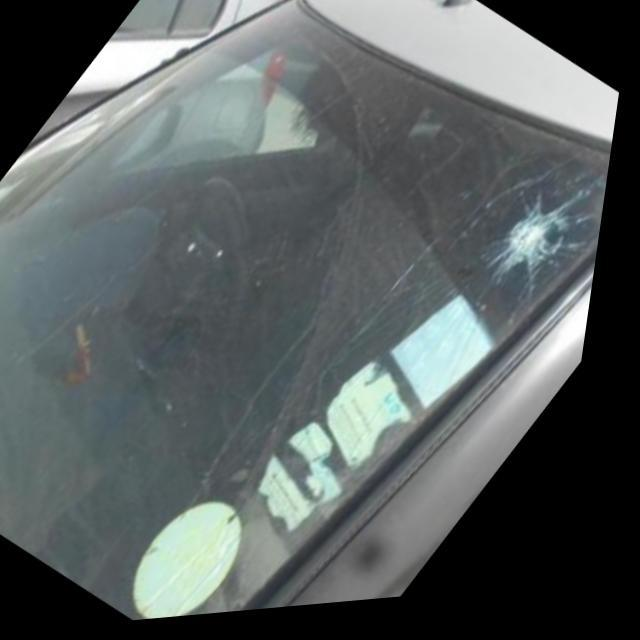glass shatter: (477, 192, 590, 314)
